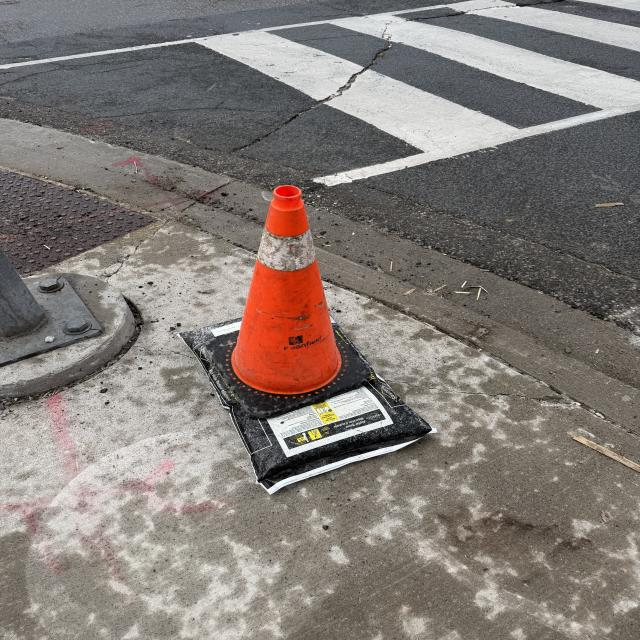Traffic Cone: (216, 178, 376, 414)
